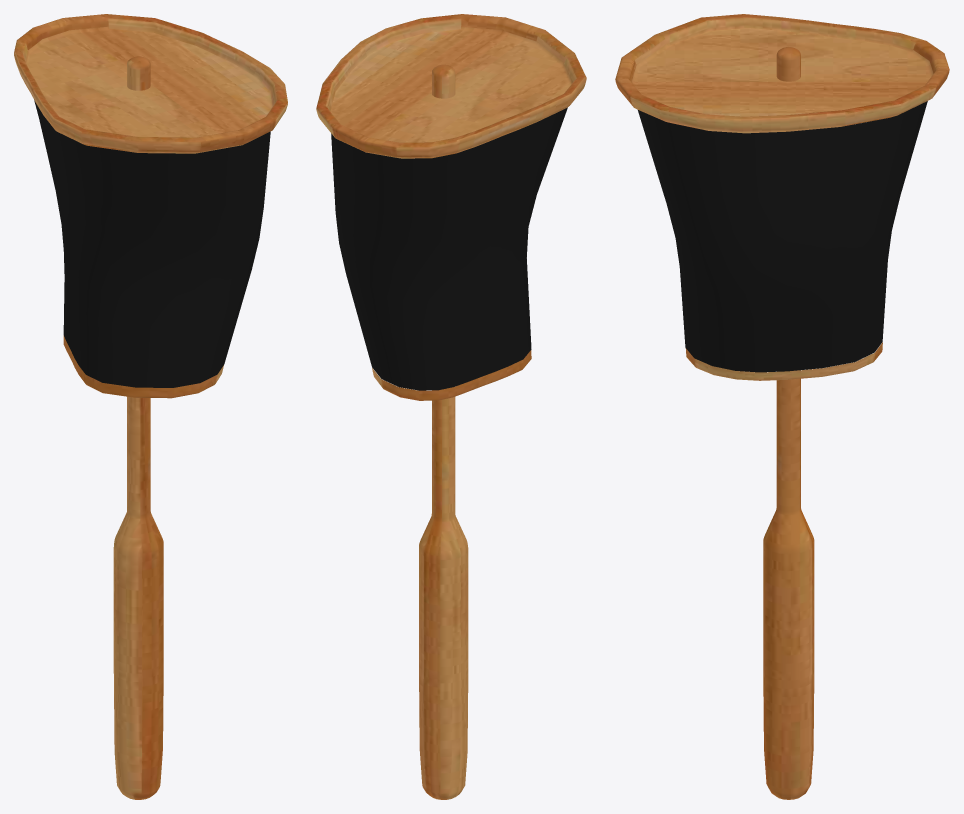
Rendered from intrument-horn-rattle.glb.
The picture shows the model from 3 angles, left to right: view 1: azimuth 30°, elevation 25°; view 2: azimuth 150°, elevation 25°; view 3: azimuth 270°, elevation 25°; orthographic projection. The views are drawn at different scales.
Parts seen in each view (by area): view 1: instrument_horn_rattle (×2); view 2: instrument_horn_rattle (×2); view 3: instrument_horn_rattle (×2).
Boxes of the visible parts, left/top/right/bottom form: instrument_horn_rattle (×2): left=14, top=14, right=287, bottom=799; instrument_horn_rattle (×2): left=316, top=14, right=586, bottom=799; instrument_horn_rattle (×2): left=615, top=14, right=949, bottom=799.
Bounding box in the file's own units: 0.4336 × 1.42 × 0.5741.
Materials: 2 (2 with a texture image).
